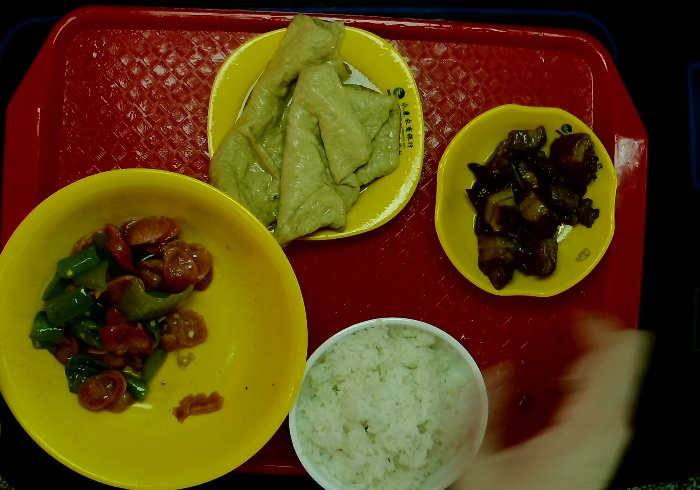YKMZ-Fan_Wan: (286, 314, 491, 490)
YKMZ-Huang_Se_Ao_Bian_Wan: (431, 100, 620, 302)
YKMZ-Huang_Se_Fang_Die: (204, 21, 428, 245)
YKMZ-Huang_Se_Tang_Wan: (1, 167, 311, 490)
